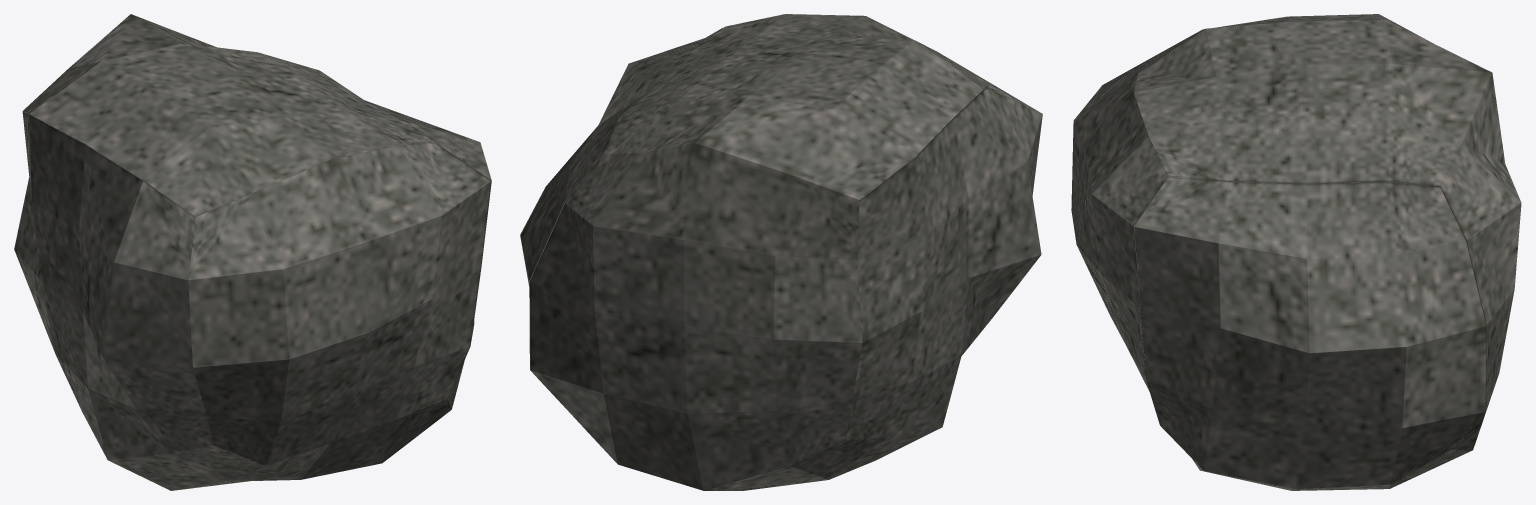
Rendered from SM_EC_Rock_35.fbx.
3 renders of one model, left to right at view 1: azimuth 30°, elevation 25°; view 2: azimuth 150°, elevation 25°; view 3: azimuth 270°, elevation 25°, orthographic. The views are drawn at different scales.
Visible parts, largest first — view 1: SM_EC_Rock_35; view 2: SM_EC_Rock_35; view 3: SM_EC_Rock_35.
Boxes of the visible parts, x1,y1,x2,y2 form: SM_EC_Rock_35: (14,14,491,490); SM_EC_Rock_35: (520,14,1042,490); SM_EC_Rock_35: (1071,14,1521,490).
Bounding box in the file's own units: 1.17 × 1.1 × 1.06.
